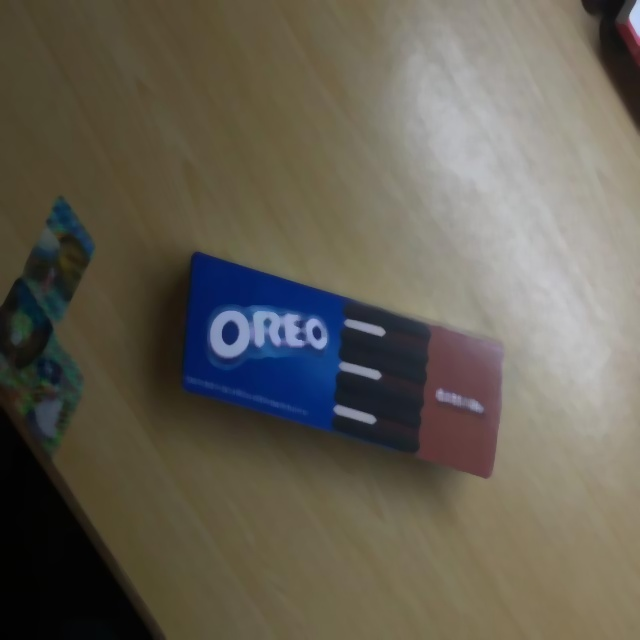Oreo: (182, 245, 508, 482)
